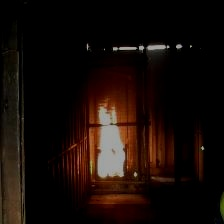fire: (91, 101, 128, 173)
